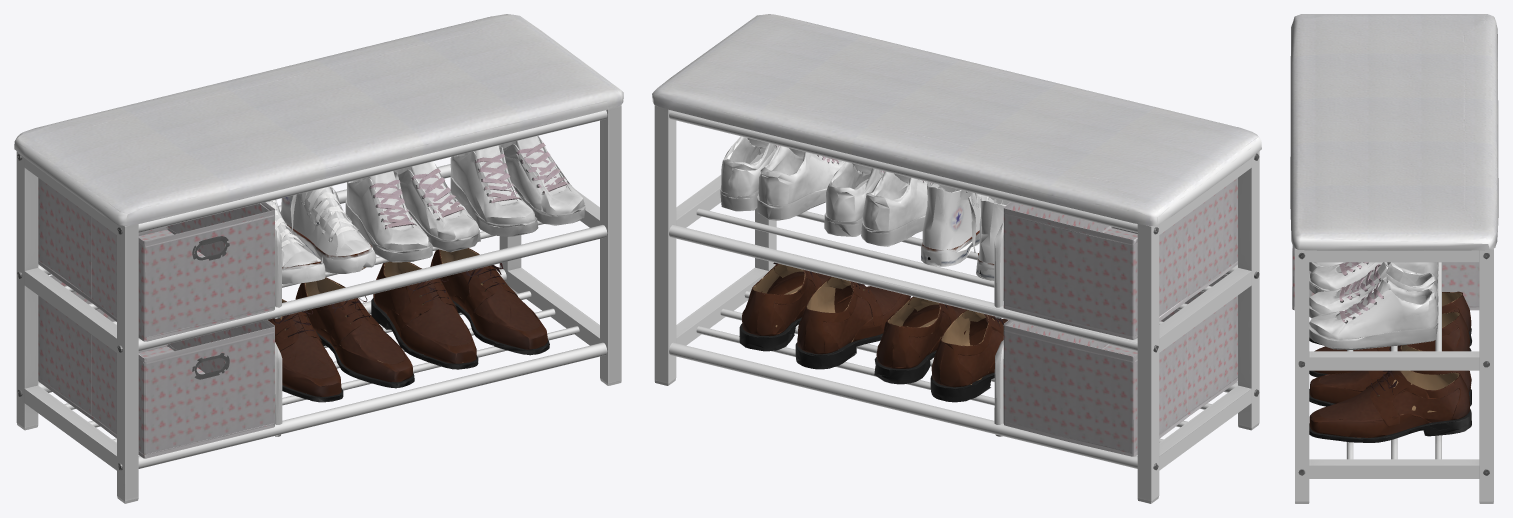
The model's file is raw_model.obj.
3 views of the same model, side by side, from view 1: azimuth 30°, elevation 25°; view 2: azimuth 150°, elevation 25°; view 3: azimuth 270°, elevation 25° (orthographic). The views are drawn at different scales.
Visible parts, largest first — view 1: solid_019, solid_013, solid_017, solid_021, solid_024, solid_023, solid_018, solid_020, solid_001, solid_012, solid_005, solid_006 (+5 smaller); view 2: solid_019, solid_013, solid_017, solid_021, solid_024, solid_023, solid_006, solid_005, solid_018, solid_020, solid_002, solid_012; view 3: solid_019, solid_013, solid_021, solid_024, solid_023, solid_020, solid_005, solid_017, solid_002, solid_001.
Boxes of the visible parts, <box> form: solid_019: <box>14,14,623,225</box>; solid_013: <box>16,105,621,501</box>; solid_017: <box>38,178,274,456</box>; solid_021: <box>347,136,584,250</box>; solid_024: <box>268,248,547,396</box>; solid_023: <box>269,255,539,378</box>; solid_018: <box>38,202,274,458</box>; solid_020: <box>345,175,585,262</box>; solid_001: <box>370,142,568,228</box>; solid_012: <box>282,213,376,284</box>; solid_005: <box>282,298,549,402</box>; solid_006: <box>276,190,370,266</box>; solid_019: <box>652,14,1261,225</box>; solid_013: <box>654,105,1259,501</box>; solid_017: <box>1003,178,1237,455</box>; solid_021: <box>721,136,931,231</box>; solid_024: <box>742,264,1004,387</box>; solid_023: <box>745,263,1008,382</box>; solid_006: <box>922,182,1005,263</box>; solid_005: <box>739,317,994,402</box>; solid_018: <box>1003,202,1237,456</box>; solid_020: <box>720,154,925,246</box>; solid_002: <box>753,264,994,384</box>; solid_012: <box>921,203,994,280</box>; solid_019: <box>1290,14,1498,250</box>; solid_013: <box>1295,248,1493,501</box>; solid_021: <box>1309,262,1438,339</box>; solid_024: <box>1309,291,1471,437</box>; solid_023: <box>1318,308,1460,422</box>; solid_020: <box>1309,262,1438,349</box>; solid_005: <box>1309,328,1471,442</box>; solid_017: <box>1292,245,1479,308</box>; solid_002: <box>1392,292,1461,414</box>; solid_001: <box>1339,262,1383,322</box>.
Size of the model in its own units: 0.8168 by 0.4547 by 0.314.
1 material, 1 textured.
